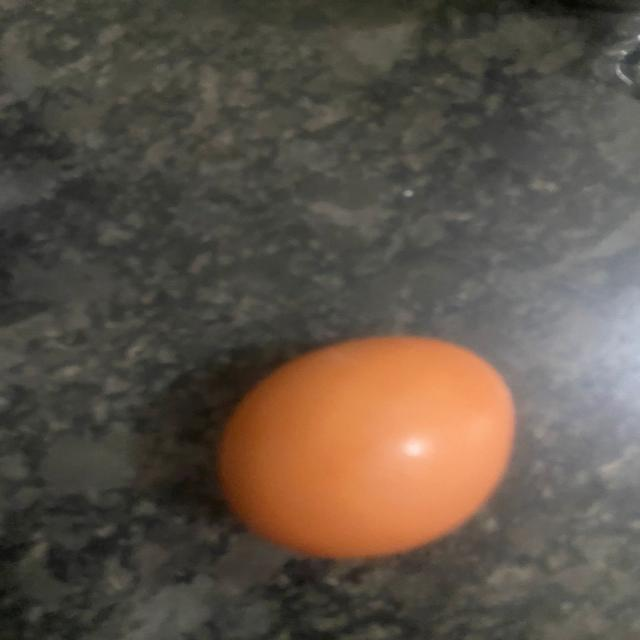egg: (204, 324, 522, 569)
